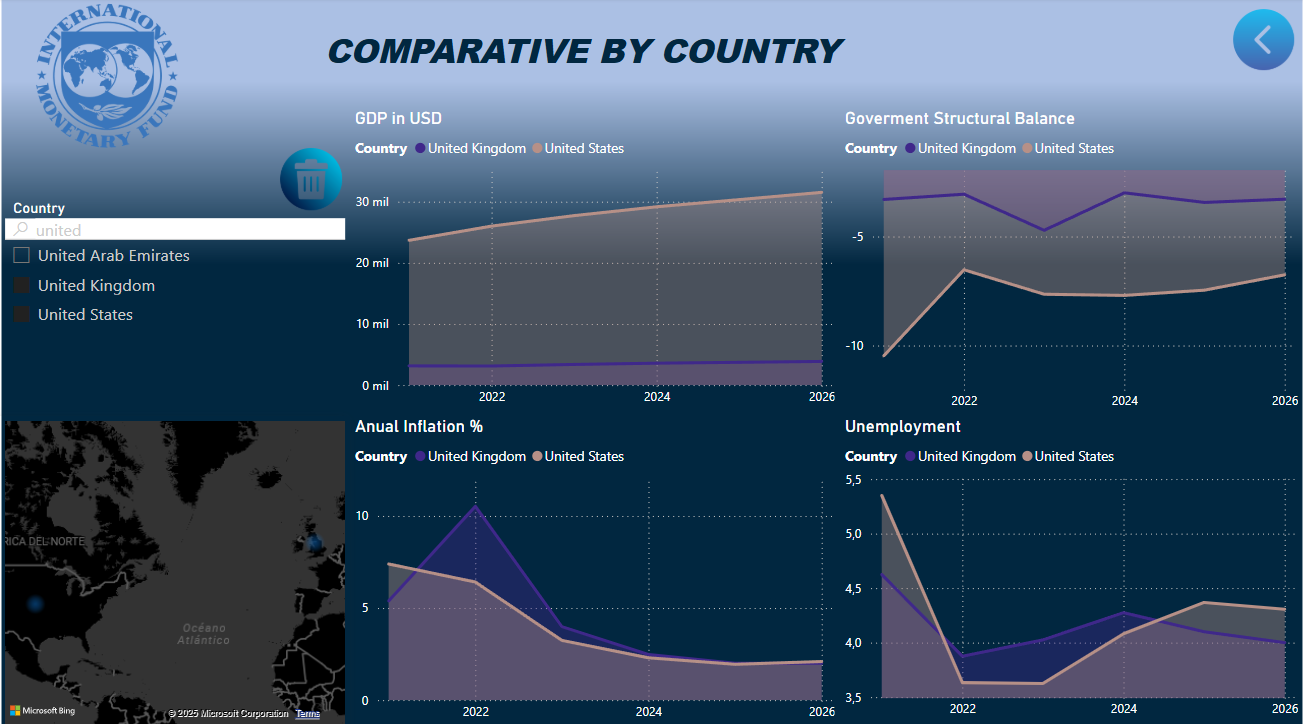

The dashboard page shown, as its layout file describes it:
{"tool":"powerbi","page":{"name":"Pagina 3","canvas":[1280,720],"ordinal":3},"visuals":[{"type":"image","box":[0,0,209.2,152.3],"z":0},{"type":"textbox","box":[259,23.2,624.9,128.9],"z":1000},{"type":"areaChart","title":"GDP in USD","fields":{"Category":["Calendar.Year"],"Series":["Country.Country"],"Y":["Sum(GDP USD.Valor)"]},"box":[343.8,108.1,481.4,302.6],"z":2000},{"type":"slicer","fields":{"Values":["Country.Country"]},"box":[0,193.5,343.8,221],"z":3000},{"type":"areaChart","title":"Anual Inflation %","fields":{"Category":["Calendar.Year"],"Series":["Country.Country"],"Y":["Sum(Inflation.Results)"]},"box":[343.8,410.6,481.4,309.4],"z":4000},{"type":"areaChart","title":"Goverment Structural Balance","fields":{"Category":["Calendar.Year"],"Series":["Country.Country"],"Y":["Sum(Goverment.Results)"]},"box":[825.2,108.1,454.8,306.5],"z":5000},{"type":"areaChart","title":"Unemployment","fields":{"Category":["Calendar.Year"],"Series":["Country.Country"],"Y":["Sum(Unemployment.Results)"]},"box":[825.2,410.6,454.8,306.5],"z":6000},{"type":"map","fields":{"Category":["Country.Country"]},"box":[0,411,344,309],"z":7000},{"type":"image","box":[1203.2,6.1,76.3,70.3],"z":8000},{"type":"image","box":[267.2,140.5,76.6,74.7],"z":9000}]}

Visuals, with their boxes in screenshot pixels (x1, y1, x2, y2), scaled from the page's 1280x720 canvas onto the 1303x724 screenshot:
image: {"left": 0, "top": 0, "right": 213, "bottom": 153}
textbox: {"left": 264, "top": 23, "right": 900, "bottom": 153}
"GDP in USD" areaChart: {"left": 350, "top": 109, "right": 840, "bottom": 413}
slicer - Country.Country: {"left": 0, "top": 195, "right": 350, "bottom": 417}
"Anual Inflation %" areaChart: {"left": 350, "top": 413, "right": 840, "bottom": 723}
"Goverment Structural Balance" areaChart: {"left": 840, "top": 109, "right": 1302, "bottom": 417}
"Unemployment" areaChart: {"left": 840, "top": 413, "right": 1302, "bottom": 721}
map - Country.Country: {"left": 0, "top": 413, "right": 350, "bottom": 723}
image: {"left": 1225, "top": 6, "right": 1302, "bottom": 77}
image: {"left": 272, "top": 141, "right": 350, "bottom": 216}
